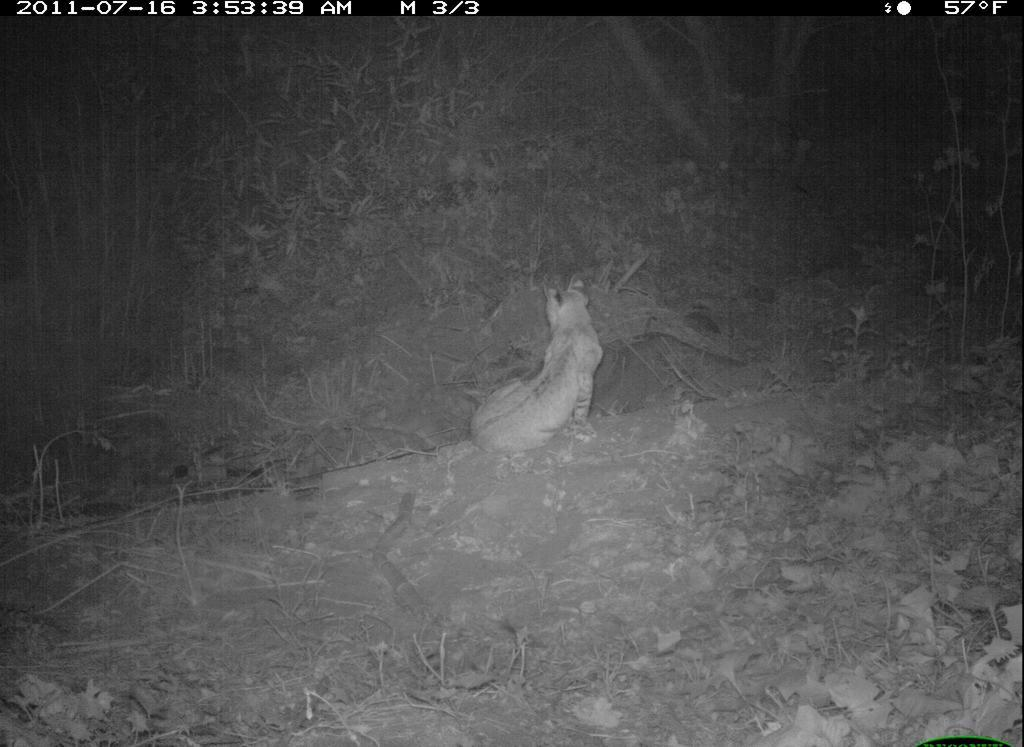bobcat: (466, 269, 607, 468)
